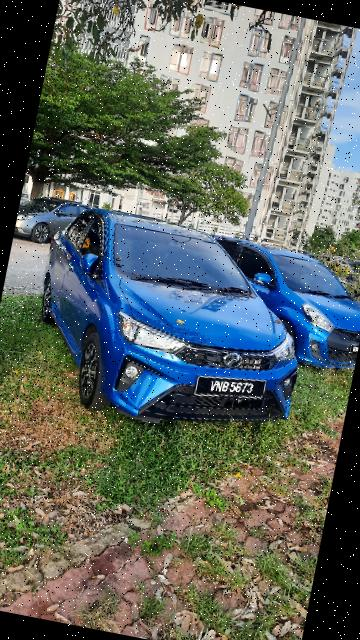License_Plate: (189, 364, 274, 412)
car: (14, 193, 332, 447), (188, 224, 360, 379)
